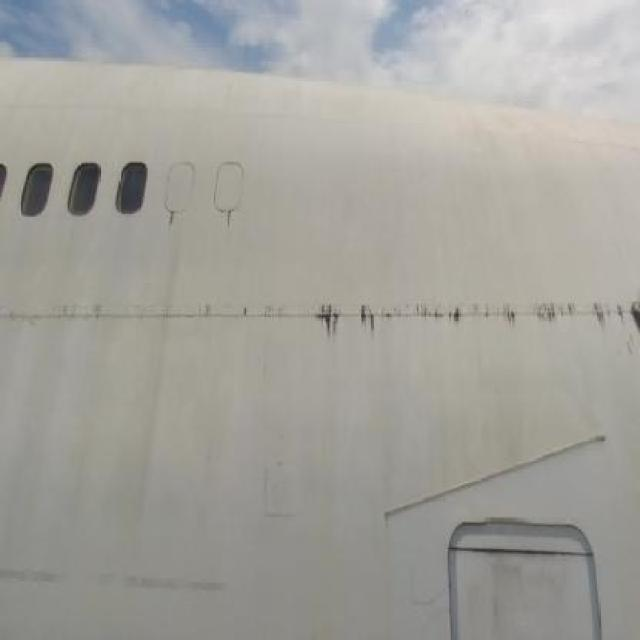Rust: (303, 275, 640, 377), (377, 521, 401, 637), (222, 210, 238, 235), (167, 207, 181, 231)
Scartch: (2, 552, 247, 633), (488, 554, 584, 628)
